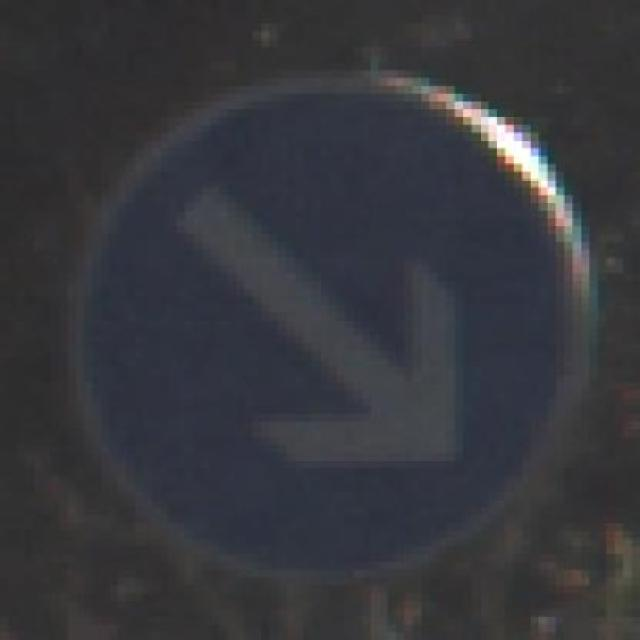Keep-Right: (76, 78, 598, 600)
